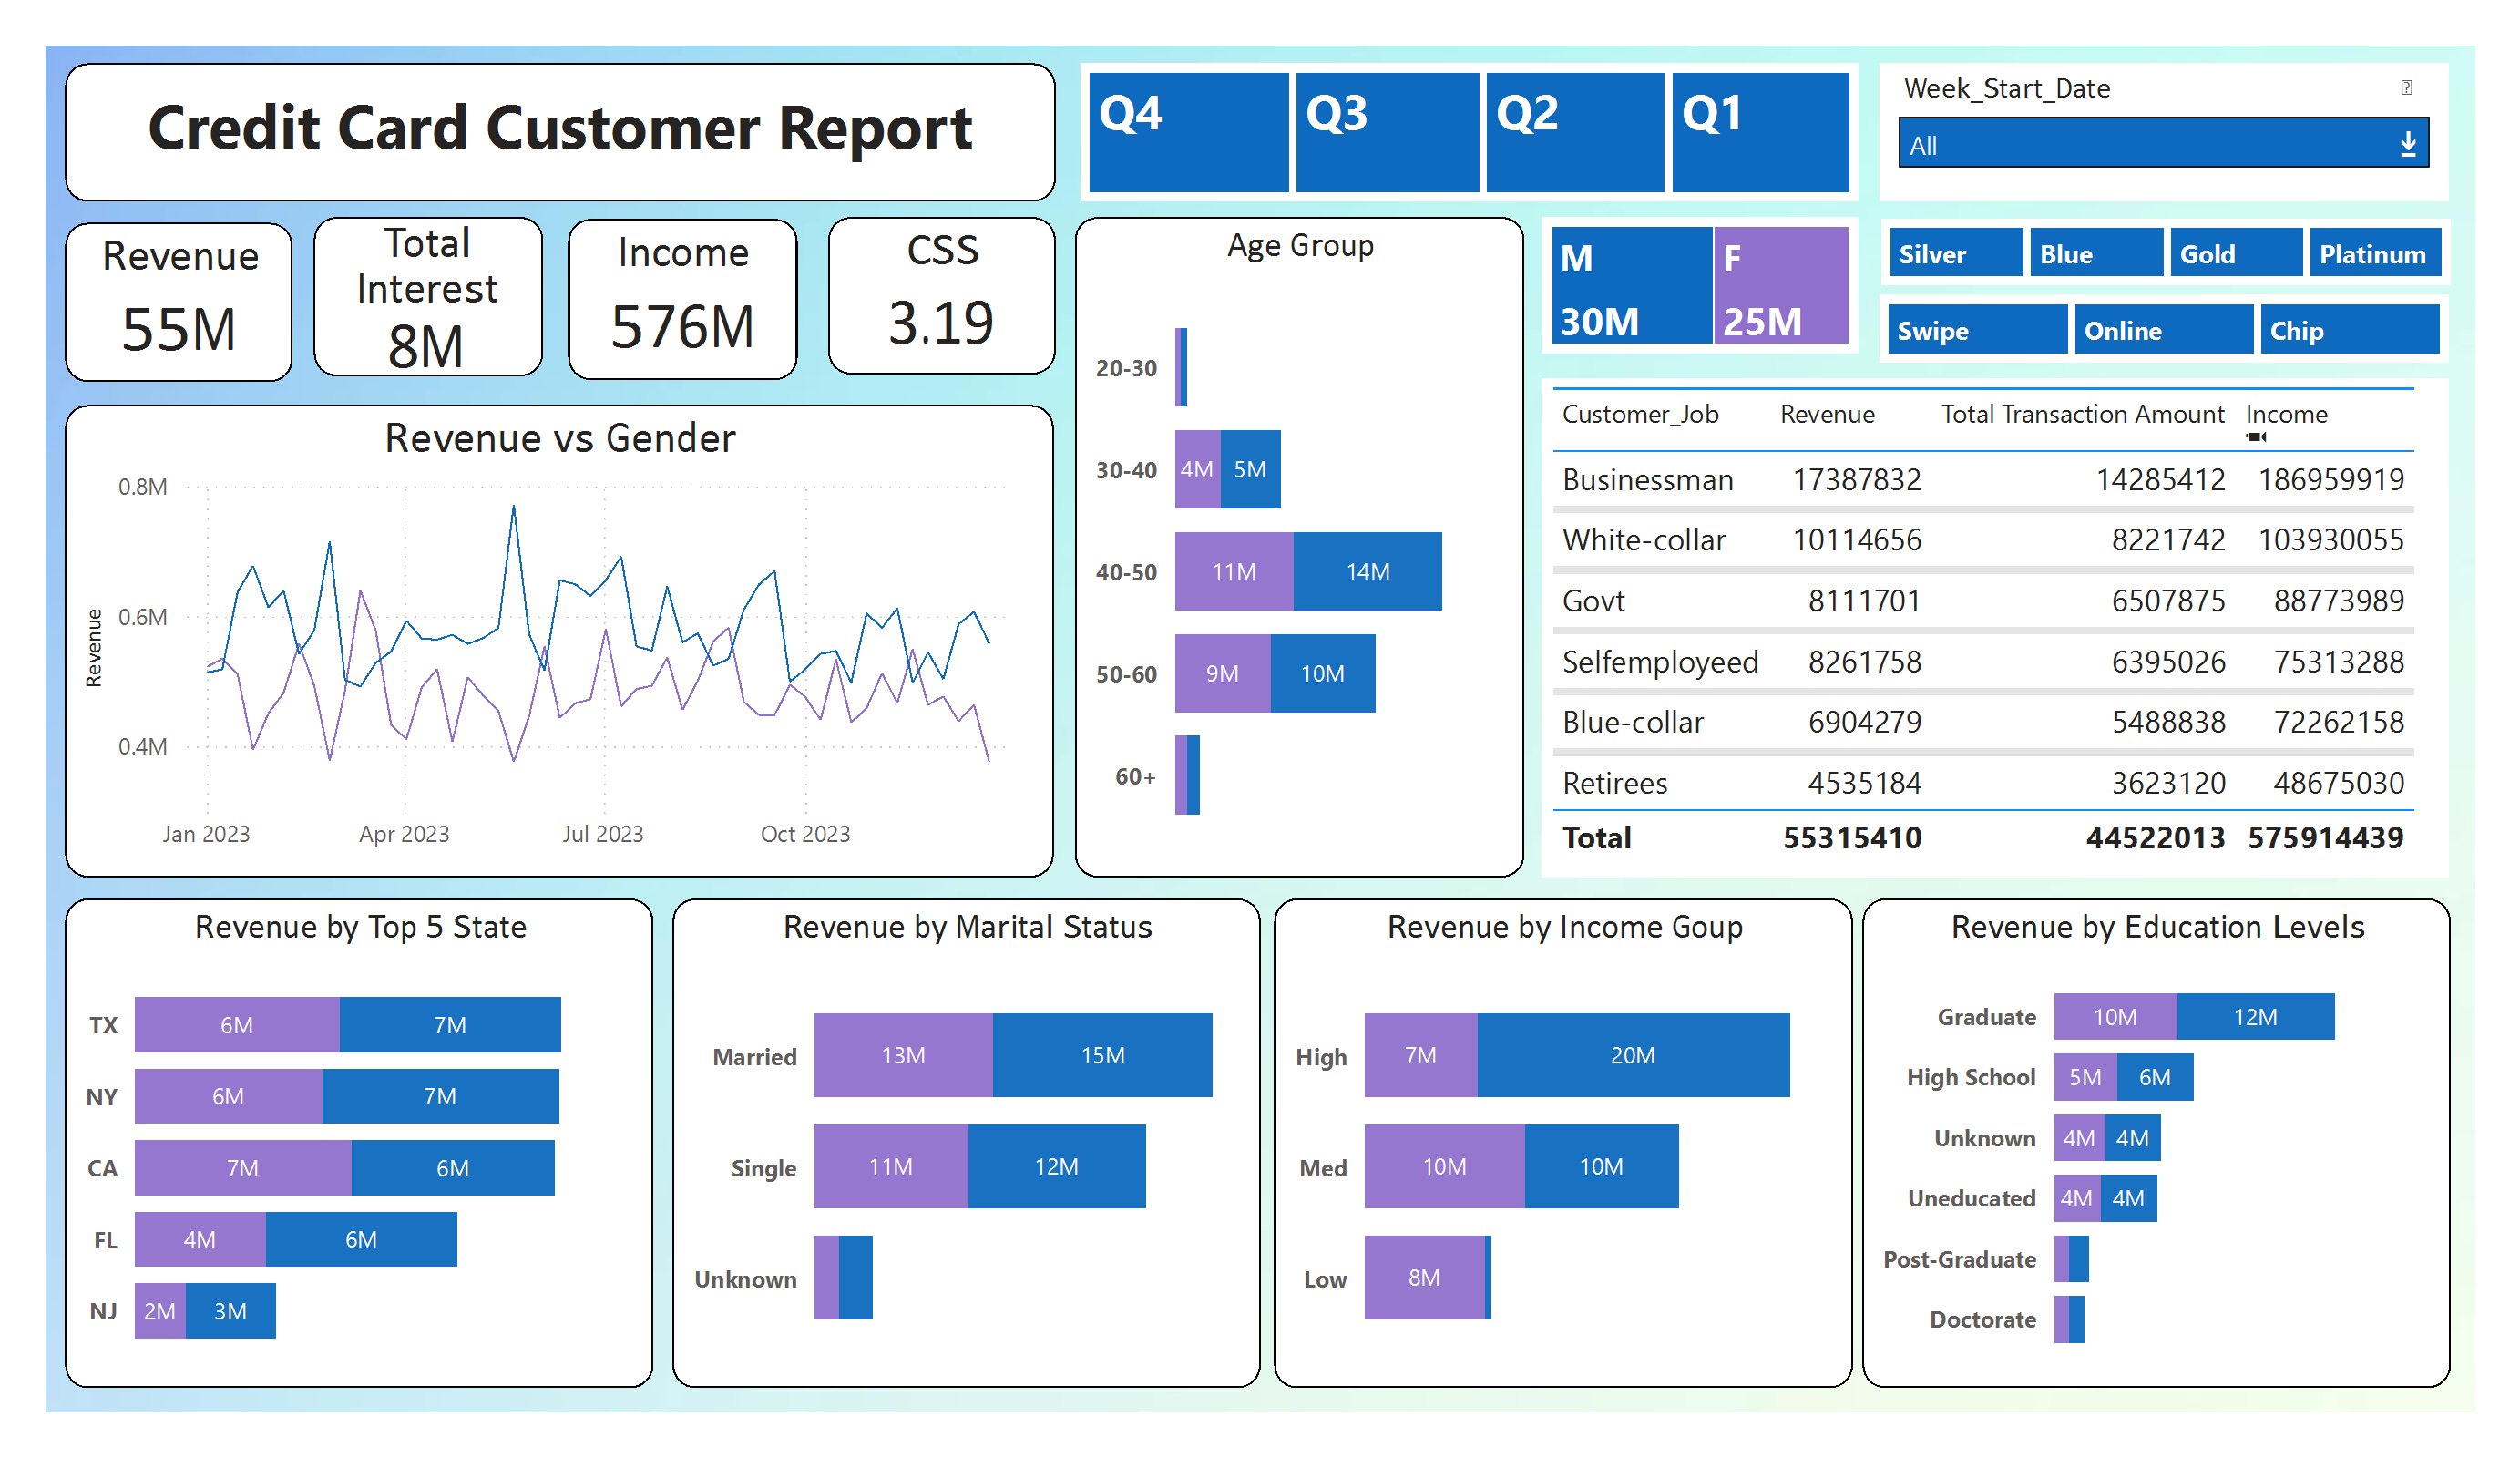

This screenshot's page, from the dashboard's own definition file:
{"tool":"powerbi","page":{"name":"Customer Report","canvas":[1280,720],"ordinal":2},"visuals":[{"type":"barChart","title":"Revenue by  Marital Status","fields":{"Y":["Sum(credit_card.Revenue)"],"Category":["customer.Marital_Status"],"Series":["customer.Gender"]},"box":[330.1,449.1,310.4,257.7],"z":0},{"type":"tableEx","fields":{"Values":["customer.Customer_Job","Sum(credit_card.Revenue)","Sum(credit_card.Total_Trans_Amt)","Sum(customer.Income)"]},"box":[787.7,175.5,478.5,262.6],"z":1000},{"type":"card","title":"Revenue","fields":{"Values":["Sum(credit_card.Revenue)"]},"box":[10,92.5,120,84],"z":2000},{"type":"card","title":"Total Interest","fields":{"Values":["Sum(credit_card.Interest_Earned)"]},"box":[141.3,89.7,120.4,84.8],"z":3000},{"type":"card","title":"Income","fields":{"Values":["Sum(customer.Income)"]},"box":[275.2,90.9,120.4,84.8],"z":4000},{"type":"card","title":"CSS","fields":{"Values":["Avg(customer.Cust_Satisfaction_Score)"]},"box":[411.6,89.7,120.4,83.5],"z":5000},{"type":"slicer","fields":{"Values":["credit_card.Week_Start_Date"]},"box":[965.6,8.6,300.6,73.6],"z":6000},{"type":"treemap","fields":{"Group":["credit_card.Qtr"],"Values":["Avg(credit_card.Client_Num)"]},"box":[544.8,8.6,409.8,73.6],"z":7000},{"type":"treemap","fields":{"Group":["credit_card.Card_Category"],"Values":["Avg(credit_card.Client_Num)"]},"box":[966.9,90.8,300.6,35.6],"z":8000},{"type":"textbox","box":[9.8,8.6,522.2,73.7],"z":10000},{"type":"lineChart","title":"Revenue vs Gender","fields":{"Y":["Sum(credit_card.Revenue)"],"Category":["credit_card.Week_Start_Date.Variation.Date Hierarchy.Year","credit_card.Week_Start_Date.Variation.Date Hierarchy.Month","credit_card.Week_Start_Date.Variation.Date Hierarchy.Day"],"Series":["customer.Gender"]},"box":[9.8,189,521.5,249.1],"z":11000},{"type":"treemap","fields":{"Group":["customer.Gender"],"Values":["Sum(credit_card.Revenue)"]},"box":[787.7,89.6,166.9,72.4],"z":12000},{"type":"barChart","title":"Age Group","fields":{"Y":["Sum(credit_card.Revenue)"],"Category":["customer.AgeGroup"],"Series":["customer.Gender"]},"box":[542.3,89.6,236.8,348.5],"z":13000},{"type":"barChart","title":"Revenue by Income Goup","fields":{"Y":["Sum(credit_card.Revenue)"],"Category":["customer.Income_Group"],"Series":["customer.Gender"]},"box":[646.6,449.1,305,257.7],"z":14000},{"type":"barChart","title":"Revenue by Education Levels","fields":{"Y":["Sum(credit_card.Revenue)"],"Category":["customer.Education_Level"],"Series":["customer.Gender"]},"box":[957.1,449.1,310.4,257.7],"z":15000},{"type":"barChart","title":"Revenue by Top 5 State","fields":{"Y":["Sum(credit_card.Revenue)"],"Category":["customer.state_cd"],"Series":["customer.Gender"]},"box":[9.8,449.1,310.4,257.7],"z":16000},{"type":"treemap","fields":{"Group":["credit_card.Use Chip"],"Values":["Avg(credit_card.Client_Num)"]},"box":[965.6,131.3,300.6,35.6],"z":16001}]}

Visuals, with their boxes in screenshot pixels (x1, y1, x2, y2):
"Revenue by  Marital Status" barChart: box=[672, 898, 1261, 1387]
tableEx - customer.Customer_Job x Sum(credit_card.Revenue): box=[1541, 379, 2448, 878]
"Revenue" card: box=[65, 221, 292, 381]
"Total Interest" card: box=[313, 216, 542, 377]
"Income" card: box=[568, 218, 796, 379]
"CSS" card: box=[826, 216, 1055, 375]
slicer - credit_card.Week_Start_Date: box=[1878, 62, 2448, 201]
treemap - credit_card.Qtr x Avg(credit_card.Client_Num): box=[1080, 62, 1857, 201]
treemap - credit_card.Card_Category x Avg(credit_card.Client_Num): box=[1880, 218, 2451, 285]
textbox: box=[64, 62, 1055, 201]
"Revenue vs Gender" lineChart: box=[64, 405, 1054, 878]
treemap - customer.Gender x Sum(credit_card.Revenue): box=[1541, 216, 1857, 354]
"Age Group" barChart: box=[1075, 216, 1524, 878]
"Revenue by Income Goup" barChart: box=[1273, 898, 1851, 1387]
"Revenue by Education Levels" barChart: box=[1861, 898, 2451, 1387]
"Revenue by Top 5 State" barChart: box=[64, 898, 653, 1387]
treemap - credit_card.Use Chip x Avg(credit_card.Client_Num): box=[1878, 295, 2448, 363]
